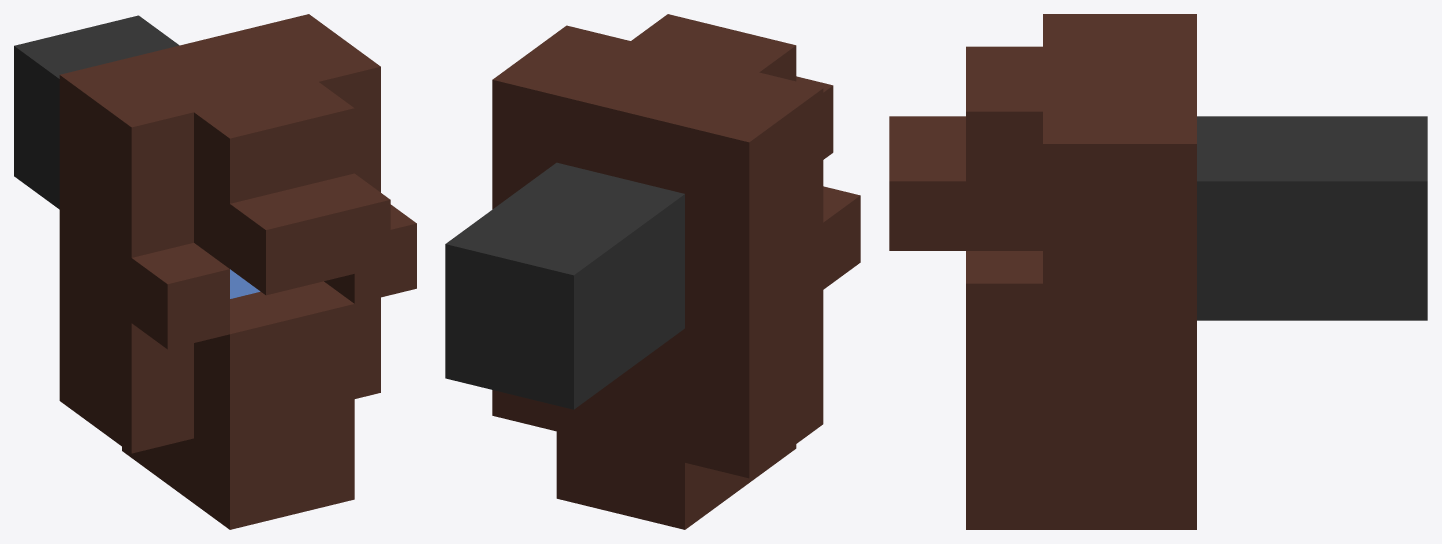
The model's file is Head-2.obj.
The picture shows the model from 3 angles, left to right: view 1: azimuth 30°, elevation 25°; view 2: azimuth 150°, elevation 25°; view 3: azimuth 270°, elevation 25°; orthographic projection. The views are drawn at different scales.
Size of the model in its own units: 0.4 by 0.6 by 0.7.
Materials: 1 (1 with a texture image).
